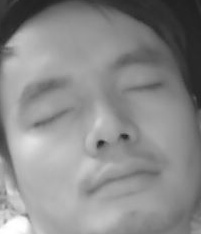blink: (31, 105, 72, 129), (121, 78, 162, 98)
mouth: (86, 154, 160, 198)
